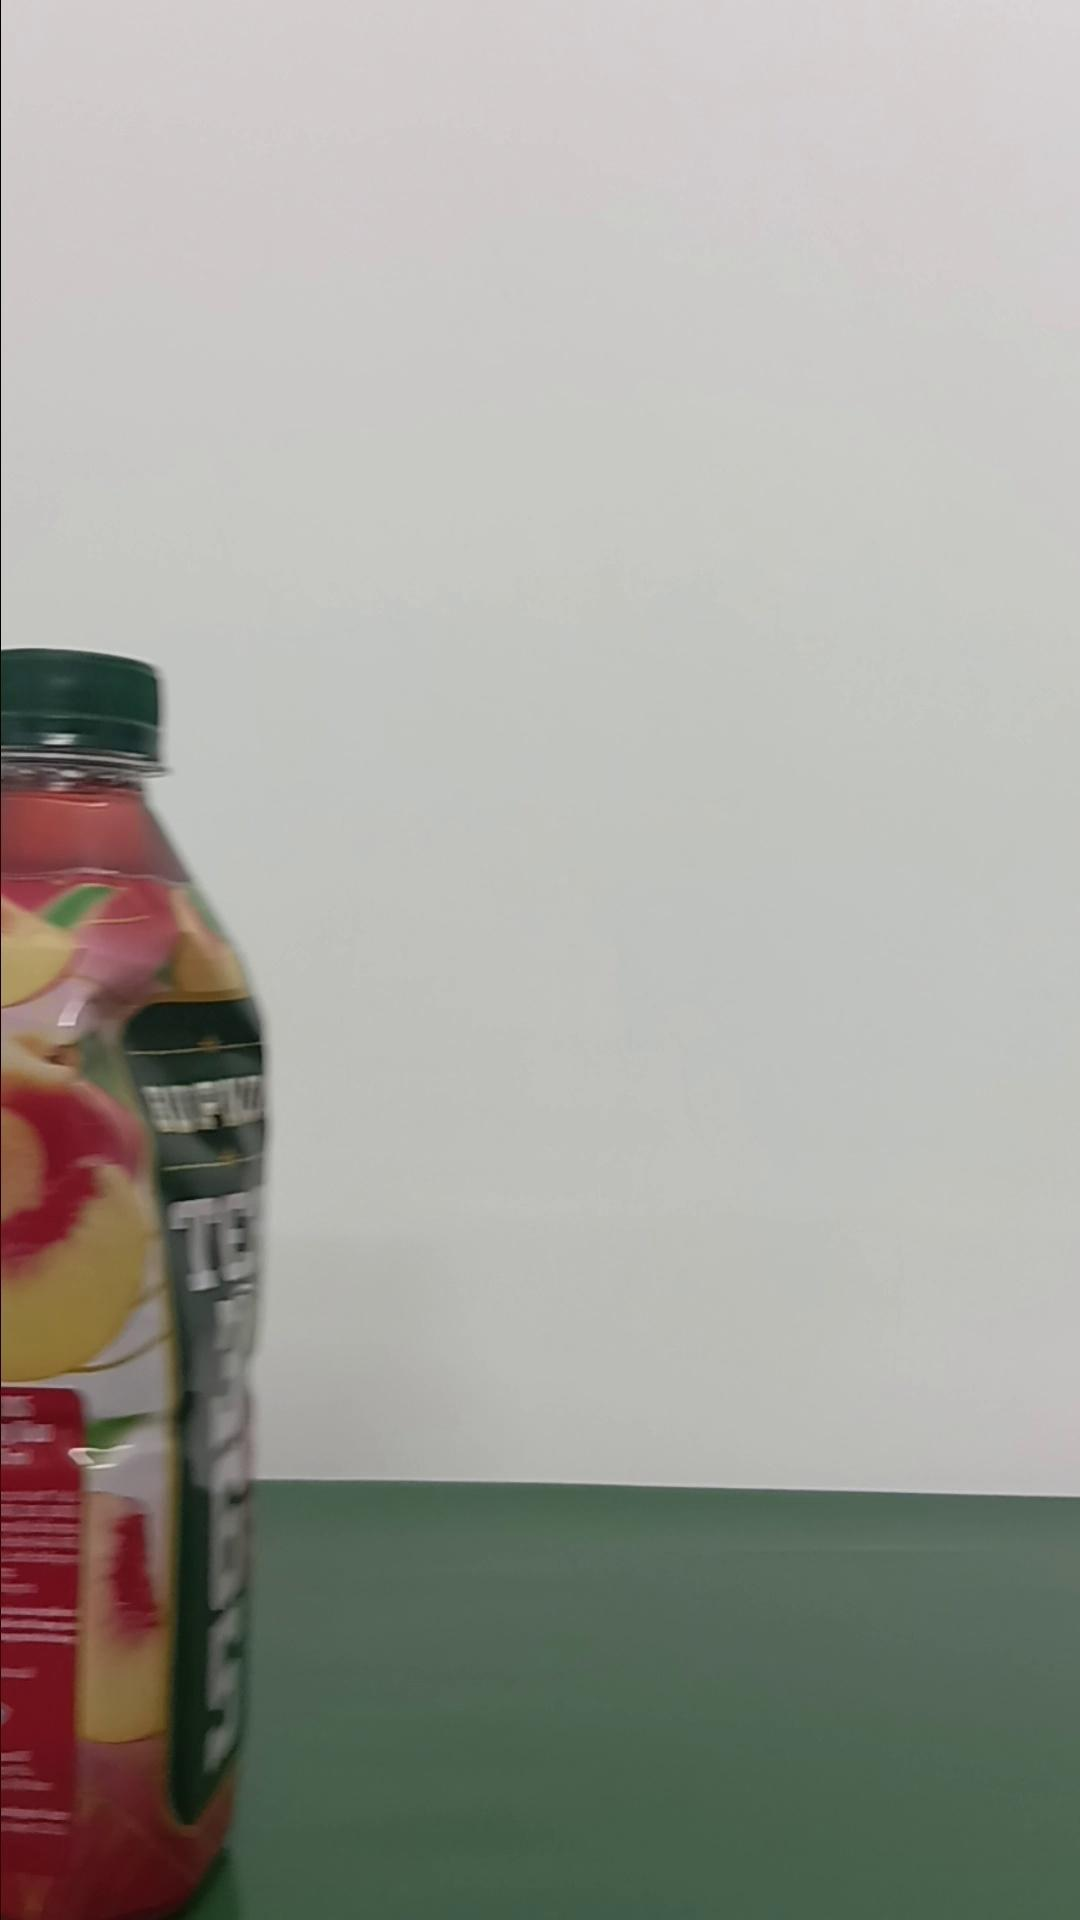loi meo sp: (3, 645, 272, 1913)
